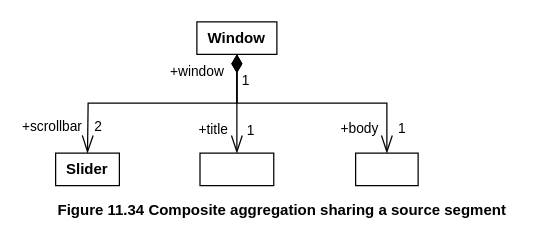
Image size: 553x251. Some labels were removed from this diagram. Each missing label, with the centre of its shape:
Header: point (236, 169)
Panel: point (386, 169)
